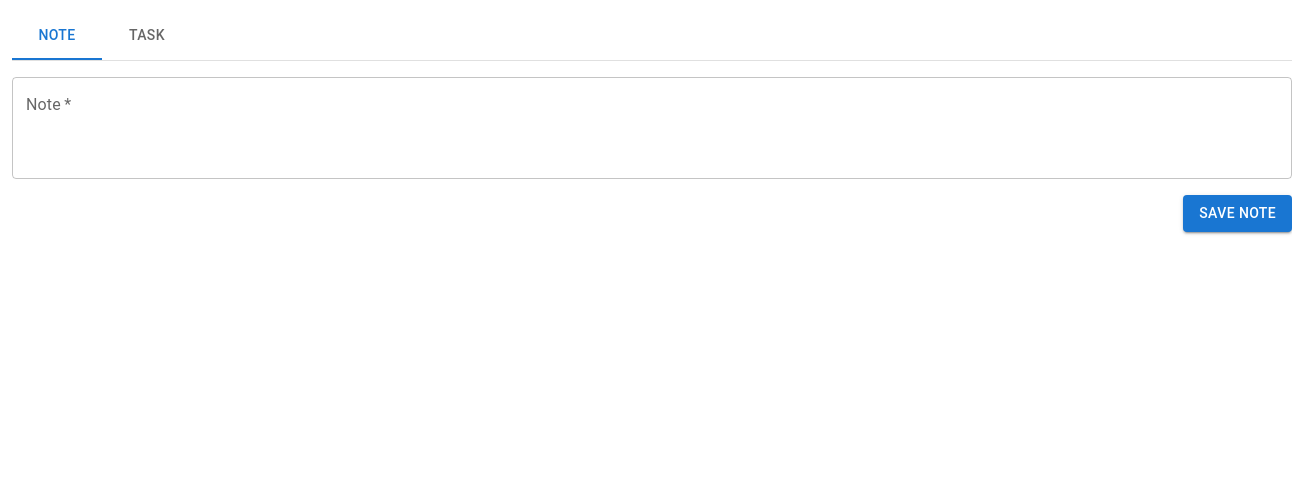
NoteTaskForm › successful task submission › shows success message after task is saved
Step 1. Click the tab "Task" → x=147, y=36, box [102, 12, 192, 60]
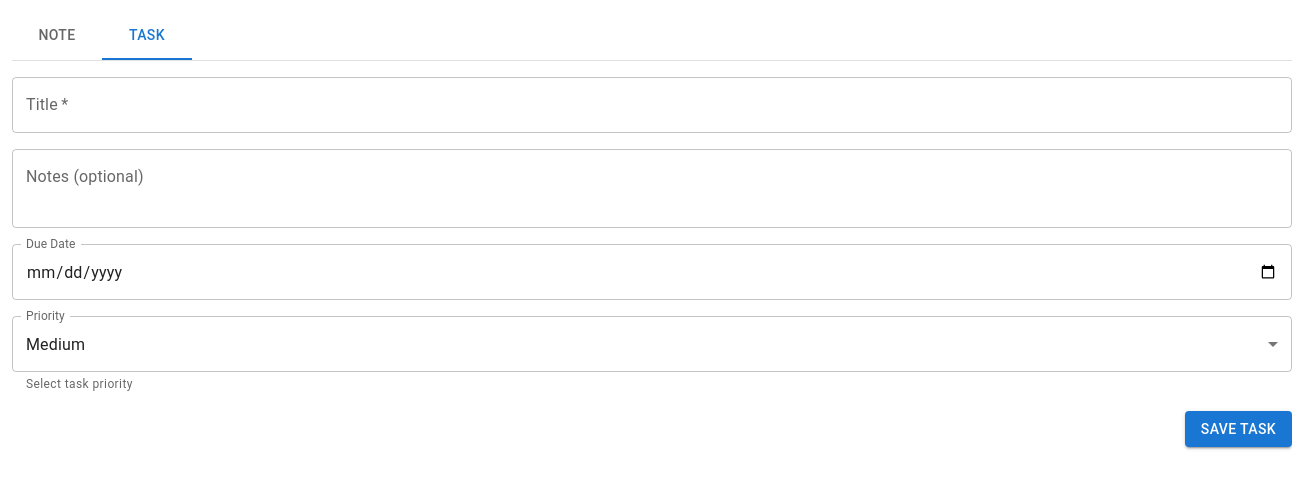
Step 2. Type "Test task" into the field named "Task title" → x=652, y=105, box [12, 77, 1292, 133]
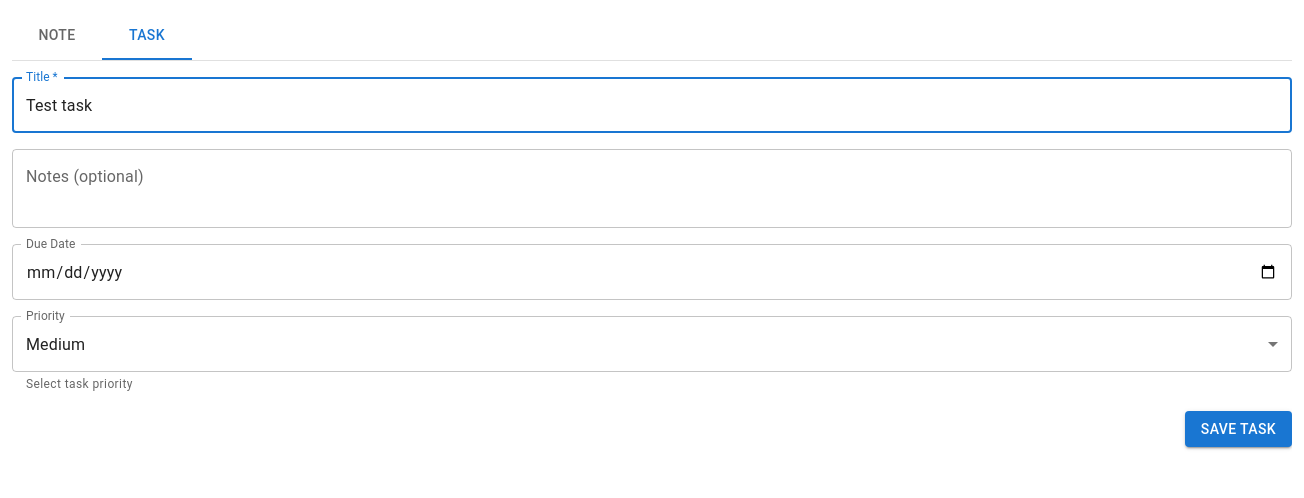
Step 3. Click the button "Save Task" → x=1238, y=429, box [1185, 411, 1292, 447]
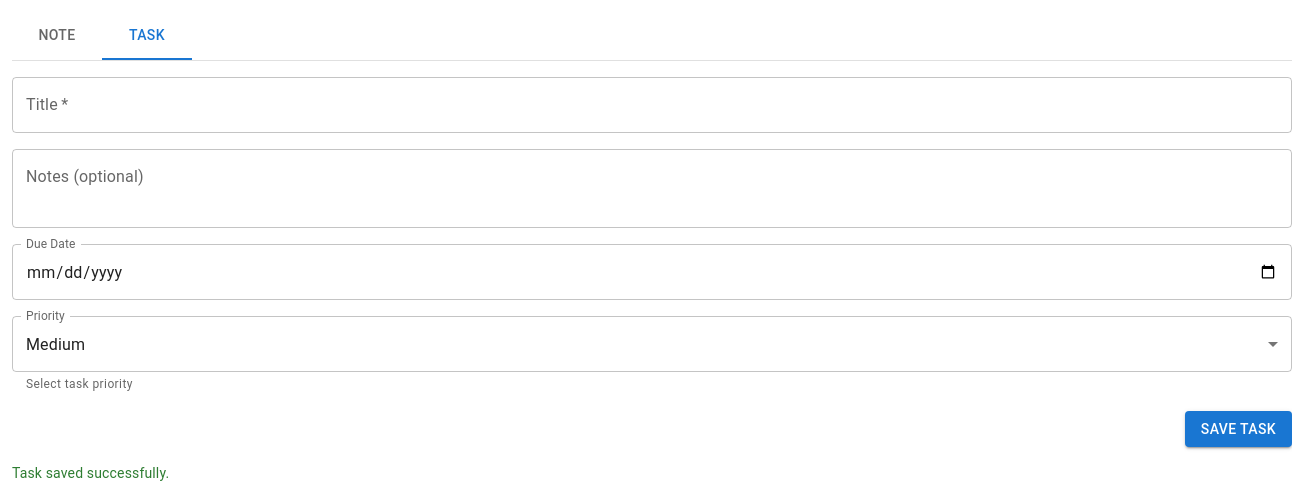
Expected: the text "Task saved successfully." is shown, [12, 465, 169, 481]
